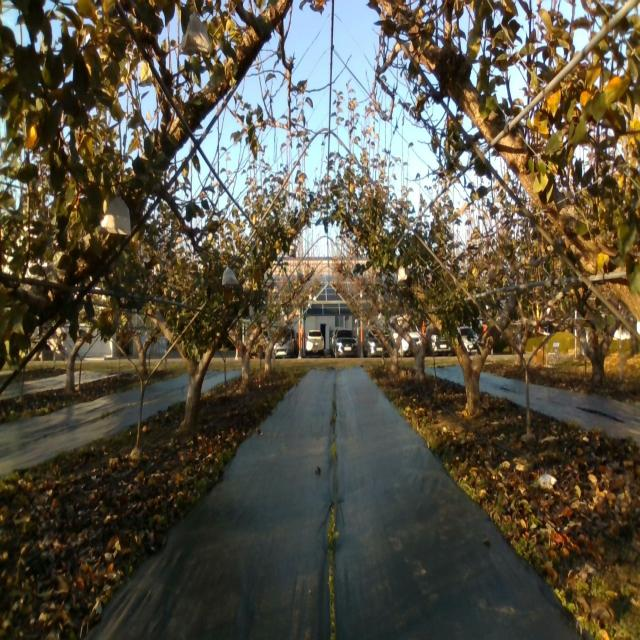pearbags: (100, 196, 132, 235), (181, 13, 210, 54), (222, 266, 238, 286)
